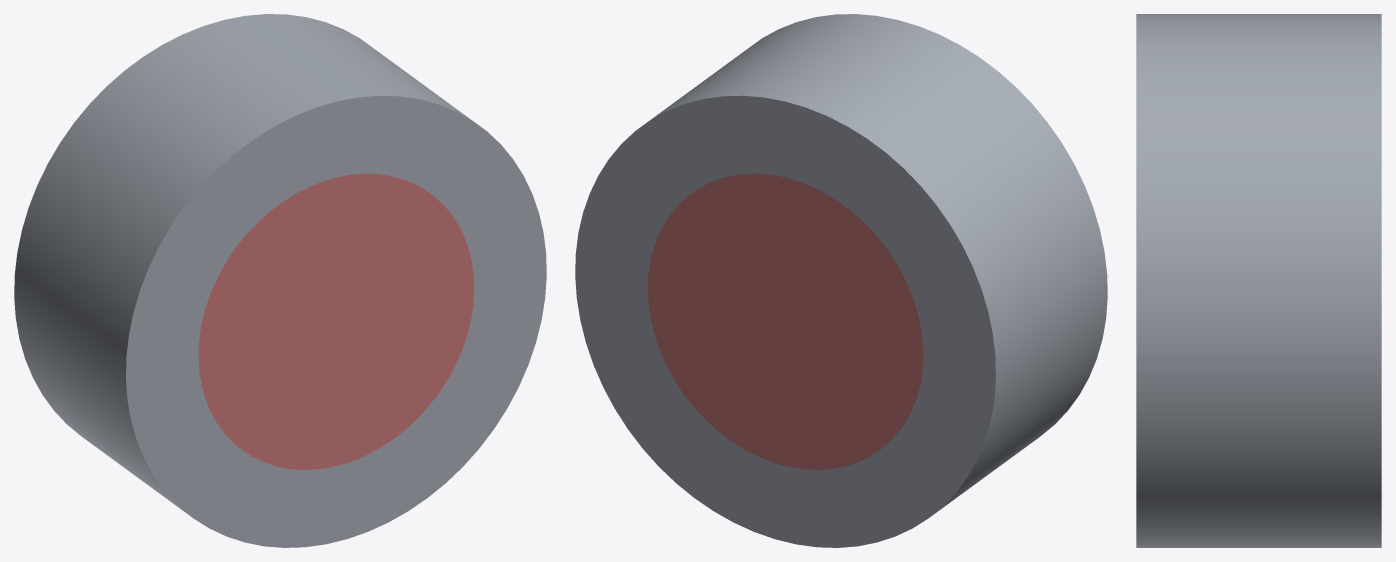
File: step_02.glb
The picture shows the model from 3 angles, left to right: view 1: azimuth 30°, elevation 25°; view 2: azimuth 150°, elevation 25°; view 3: azimuth 270°, elevation 25°; orthographic projection. The views are drawn at different scales.
Visible parts, largest first — view 1: part__Housing, removed__Housing; view 2: part__Housing, removed__Housing; view 3: part__Housing.
Boxes of the visible parts, <box> form: part__Housing: <box>14,14,546,547</box>; removed__Housing: <box>198,173,474,469</box>; part__Housing: <box>575,14,1107,547</box>; removed__Housing: <box>647,173,923,469</box>; part__Housing: <box>1136,14,1381,547</box>.
Size of the model in its own units: 86.97 by 86.95 by 40.
